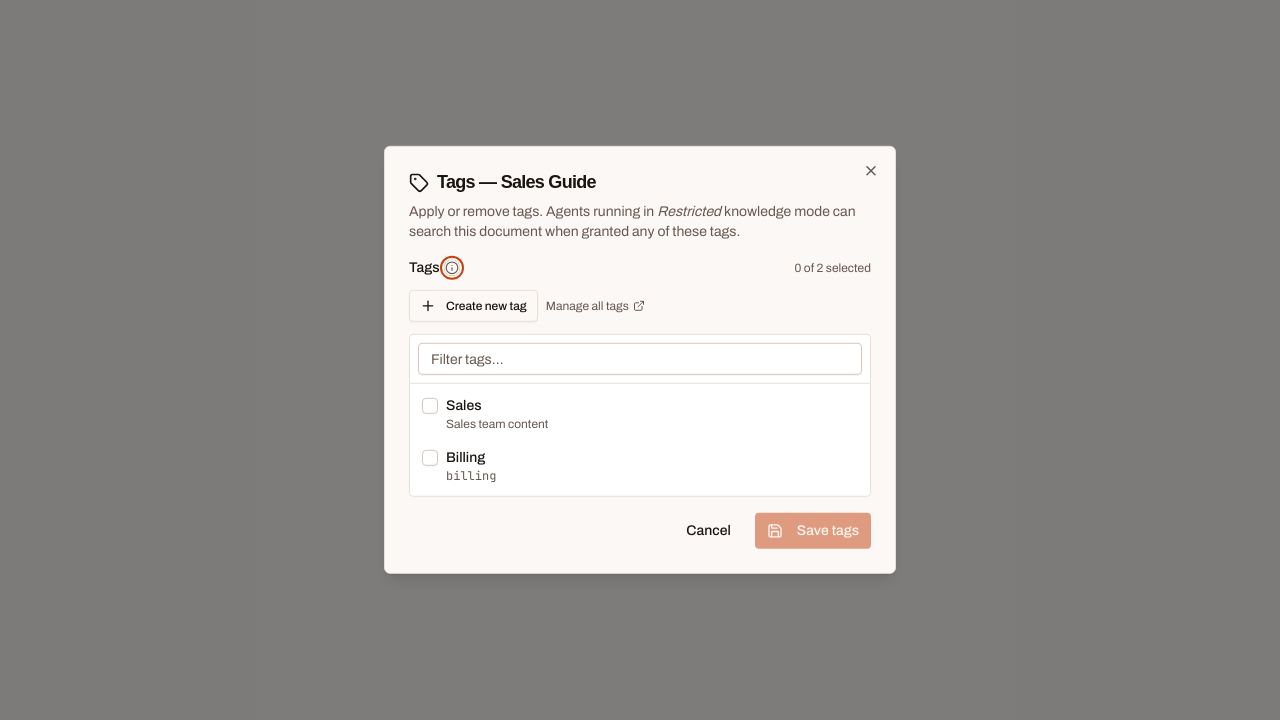
Scenario: DocumentTagsModal › filter › shows "no tags match" empty state when filter produces no results
Expected: the text "Sales" is shown, left=446, top=398, right=482, bottom=413
Type "zzz" into the field labelled "Filter tags…".
click(640, 359); type("zzz")  # box left=418, top=343, right=862, bottom=375
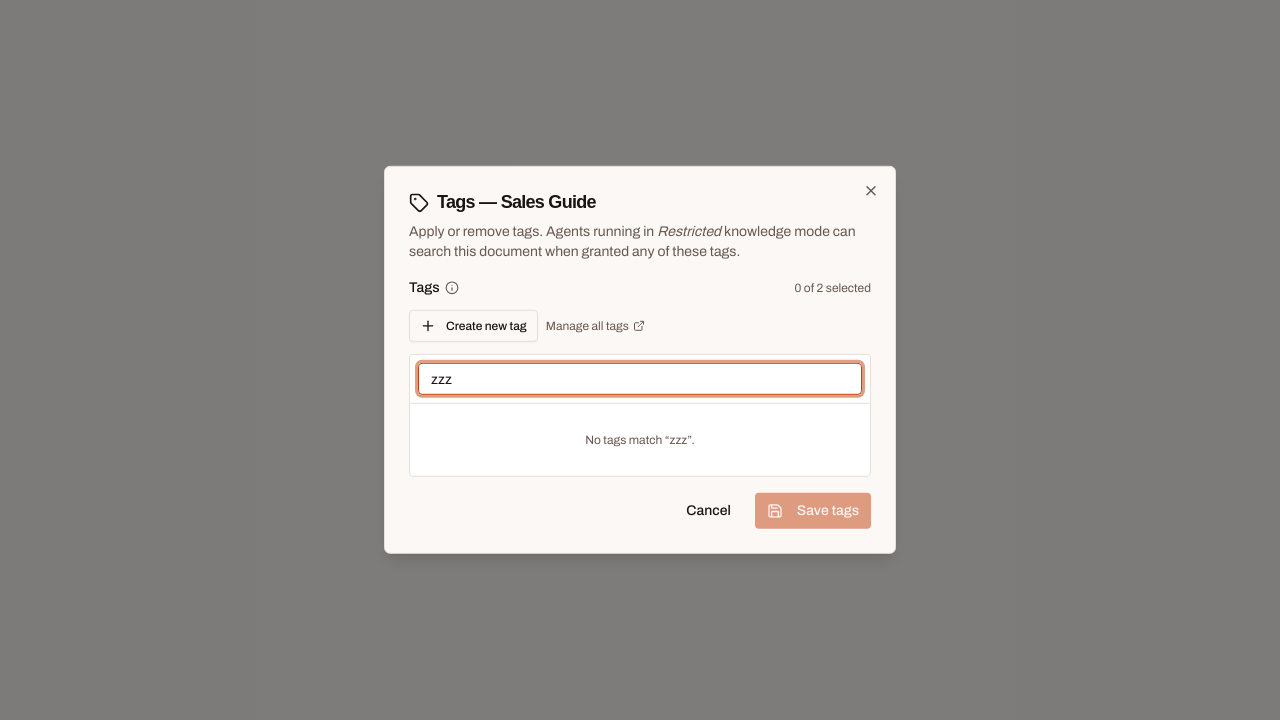
Expected: the text "No tags match “zzz”." is shown, left=585, top=433, right=695, bottom=447
